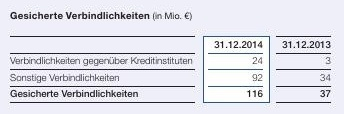table: (0, 0, 344, 114)
